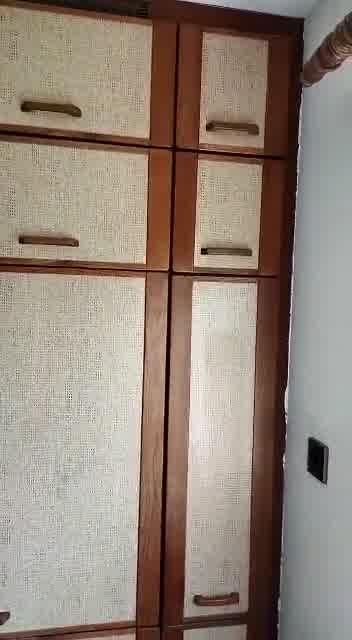cabinet_door: (0, 262, 148, 633), (166, 269, 273, 638), (0, 2, 176, 141), (0, 137, 173, 266), (177, 13, 289, 154), (175, 153, 283, 277)
handle: (15, 219, 80, 255), (18, 85, 82, 121), (203, 110, 261, 142), (199, 235, 257, 264), (189, 585, 240, 613)
